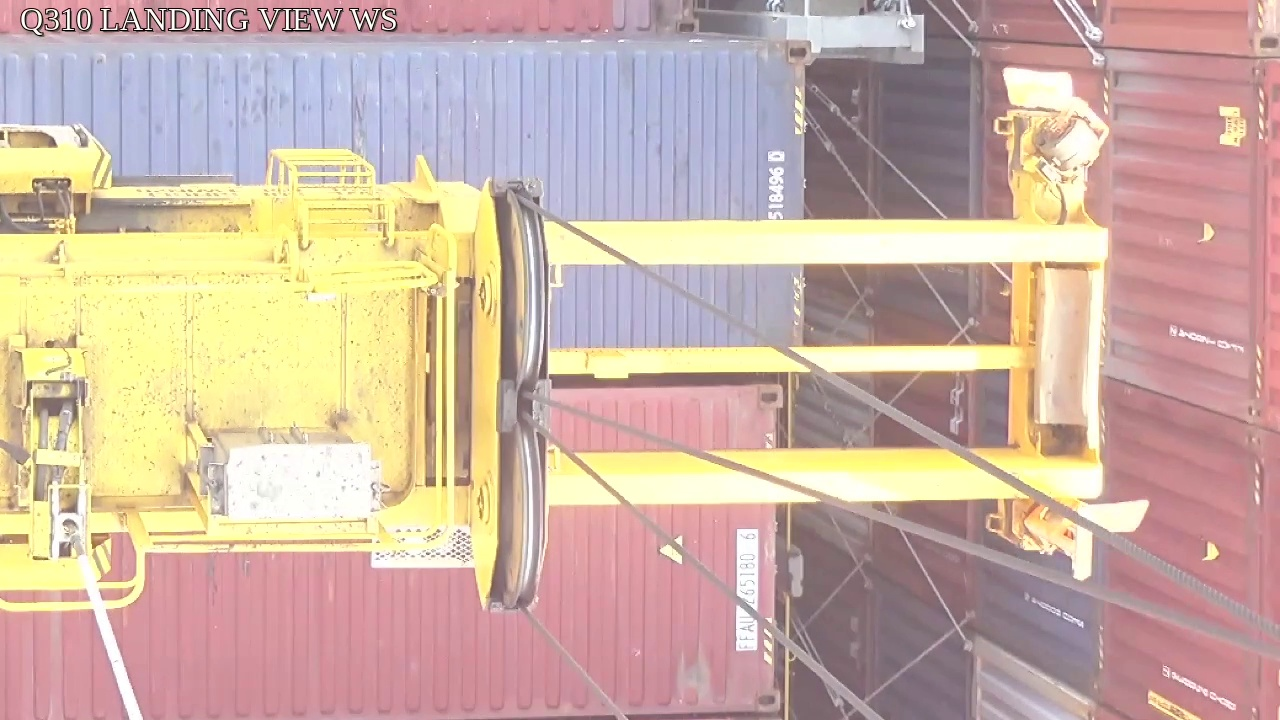right: (467, 180, 554, 614)
